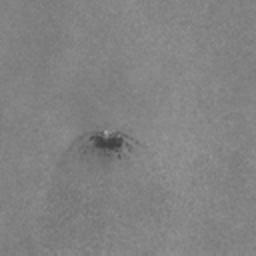Iron sheet ash: (90, 129, 124, 154)
